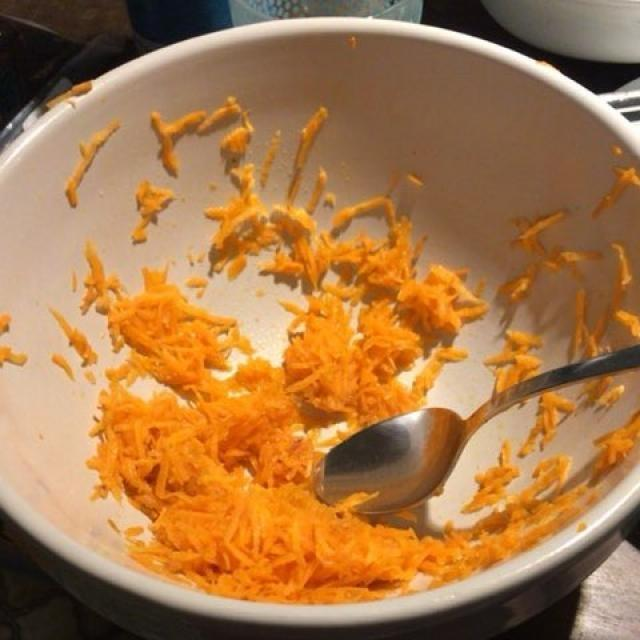carrot: (70, 84, 639, 595)
